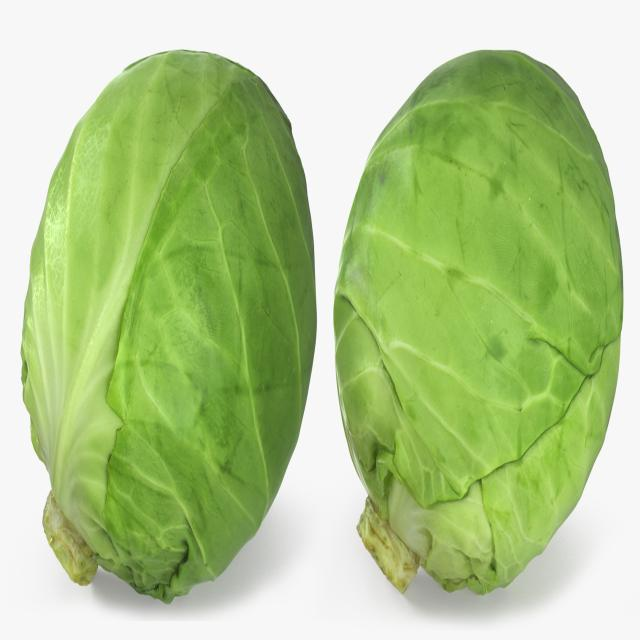cabbage: (17, 49, 320, 610), (328, 52, 626, 602)
